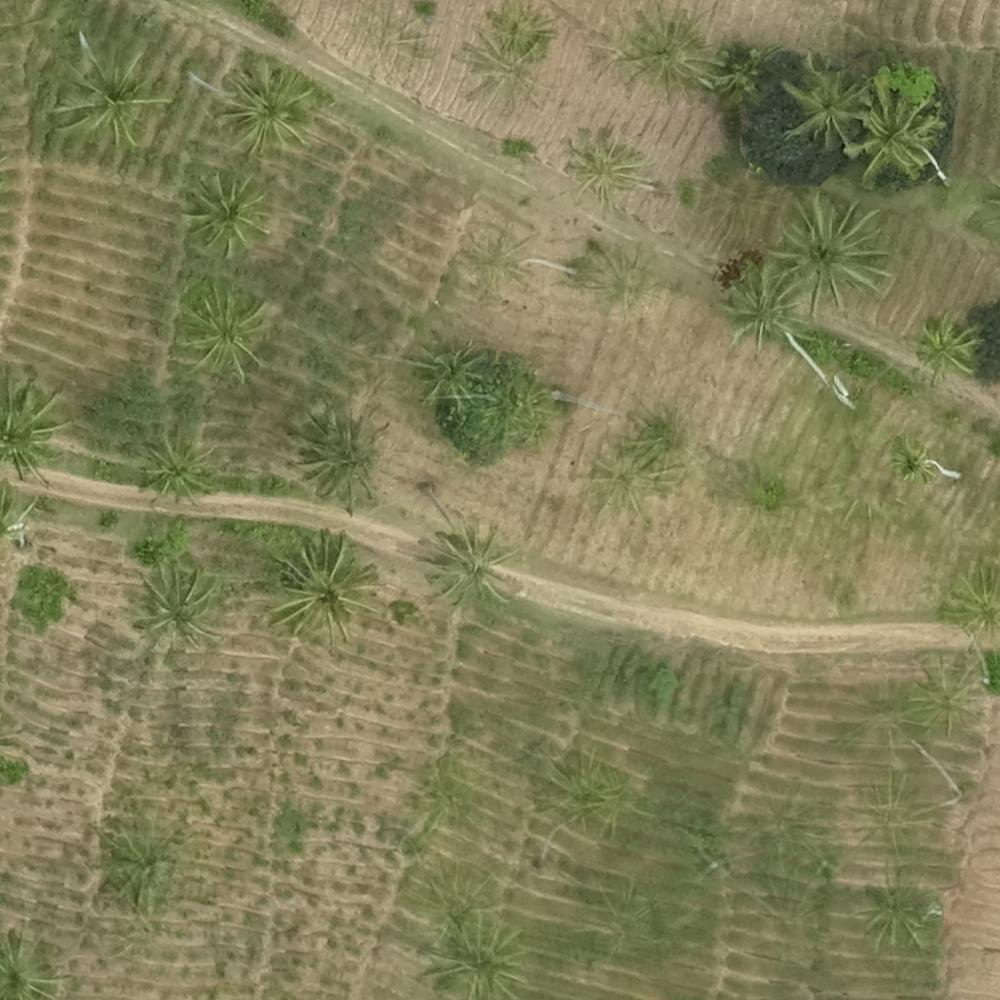Palm: (778, 193, 886, 307), (57, 41, 161, 140), (268, 540, 374, 634), (129, 561, 232, 654), (420, 518, 520, 612), (612, 11, 715, 99), (218, 63, 311, 156), (293, 411, 386, 500), (177, 286, 265, 377), (180, 177, 271, 259), (850, 99, 936, 180), (783, 62, 864, 138), (720, 264, 792, 341), (138, 430, 215, 498), (914, 318, 986, 385)
